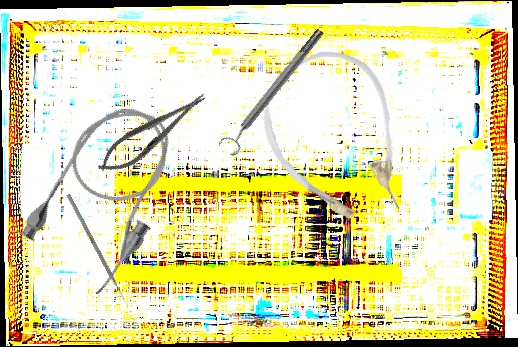Cannula: (242, 34, 431, 247), (12, 87, 200, 301)
Fixation Ring: (216, 23, 331, 159)
Needle Holder: (90, 83, 215, 184)
Pusher: (66, 193, 130, 309)
